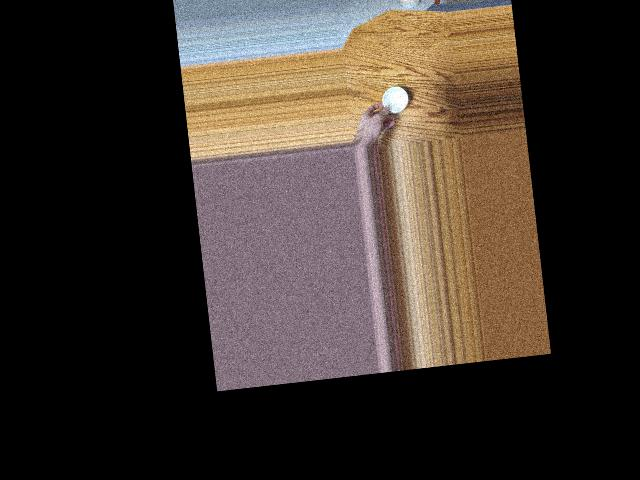cotage: (378, 85, 410, 116)
